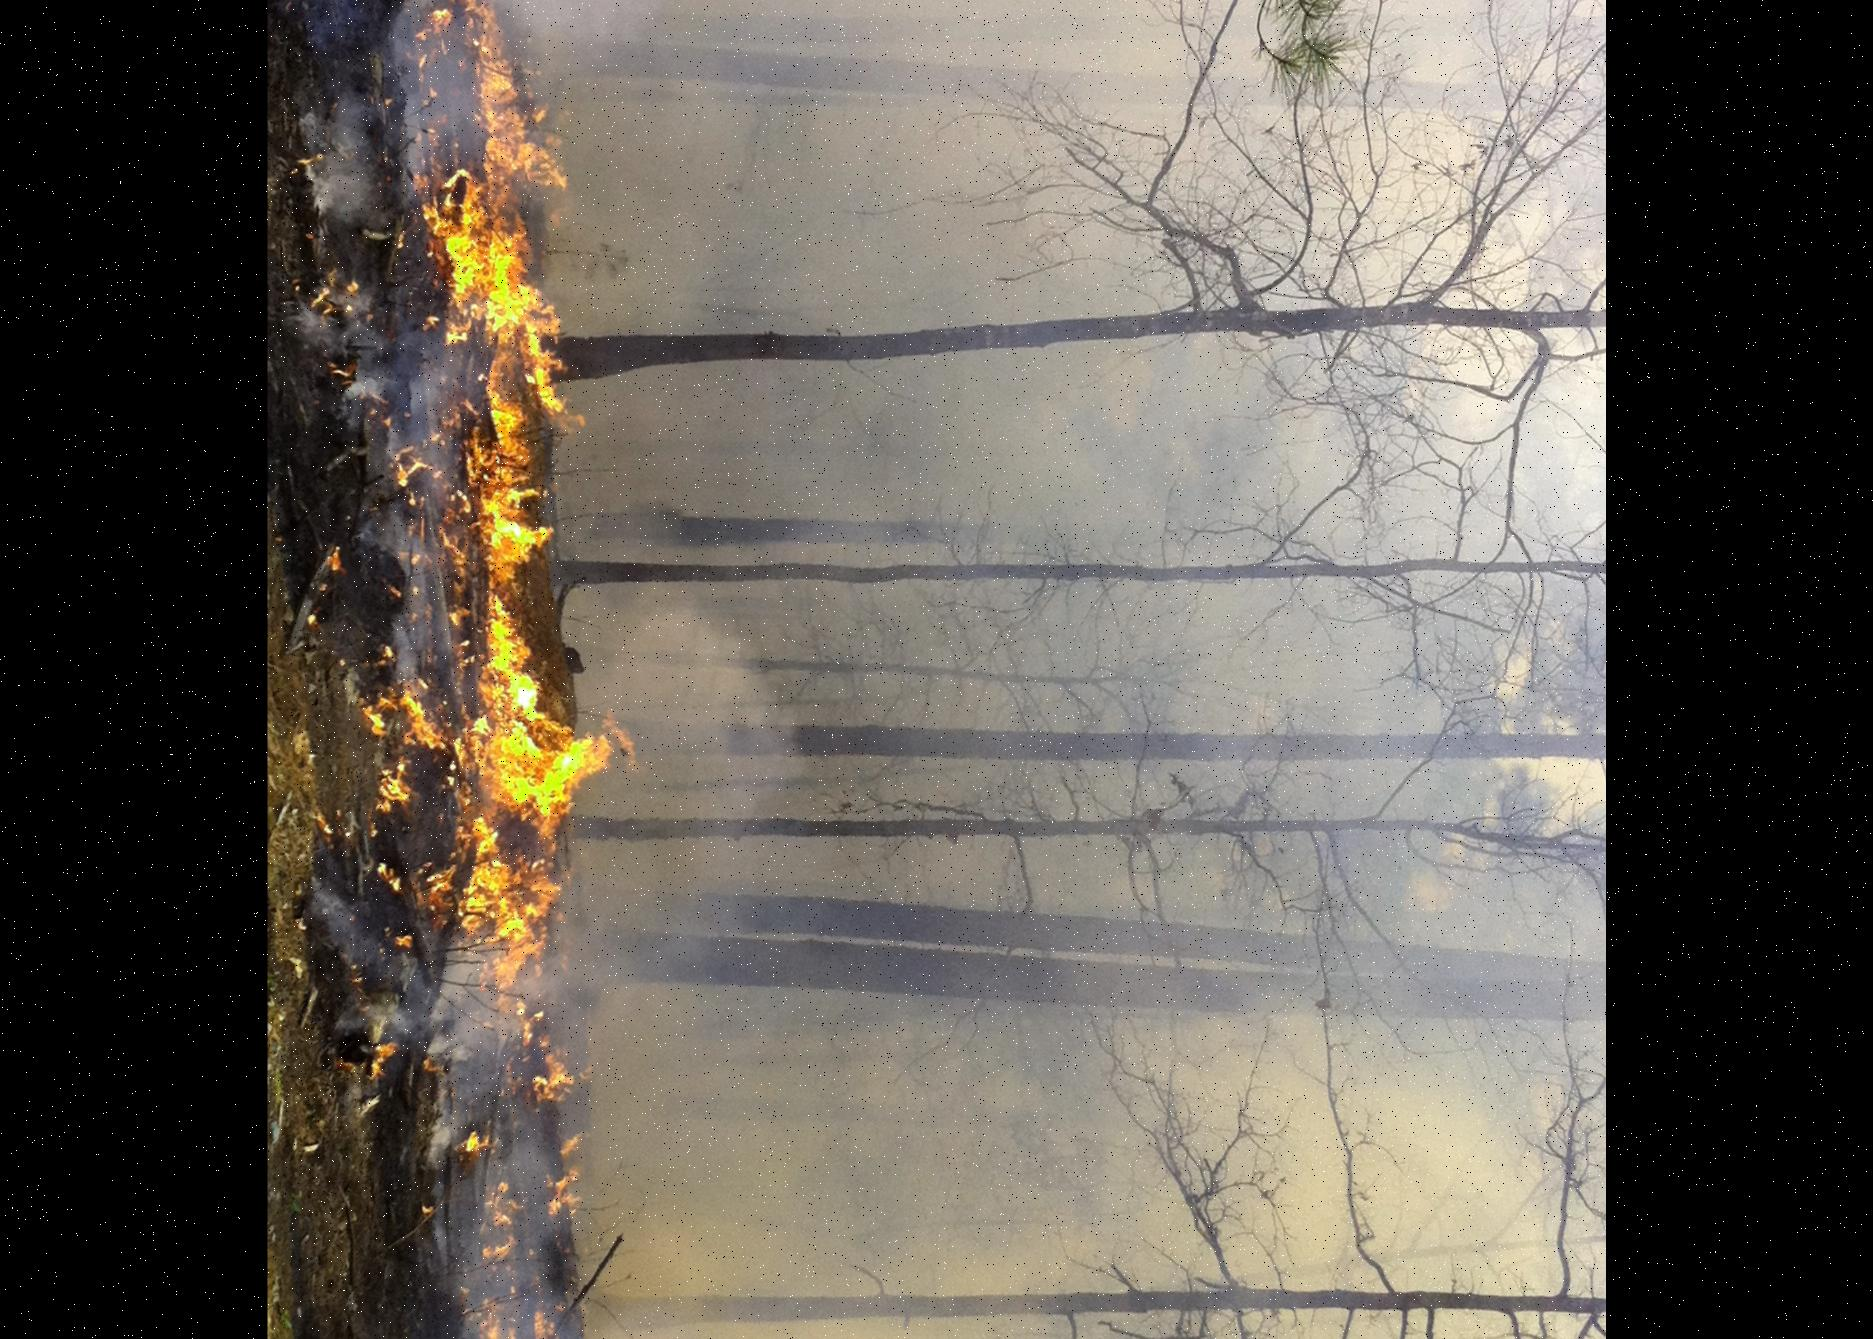fire: (319, 0, 632, 1339)
